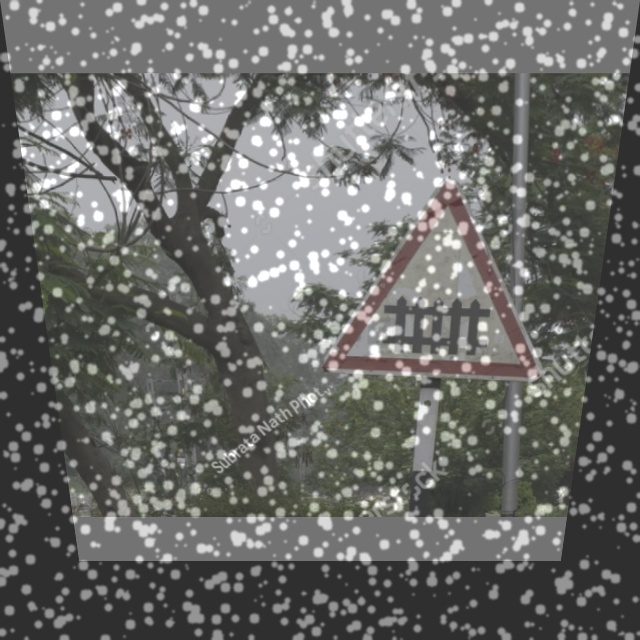Guarded_Level_Crossing: (326, 184, 566, 378)
